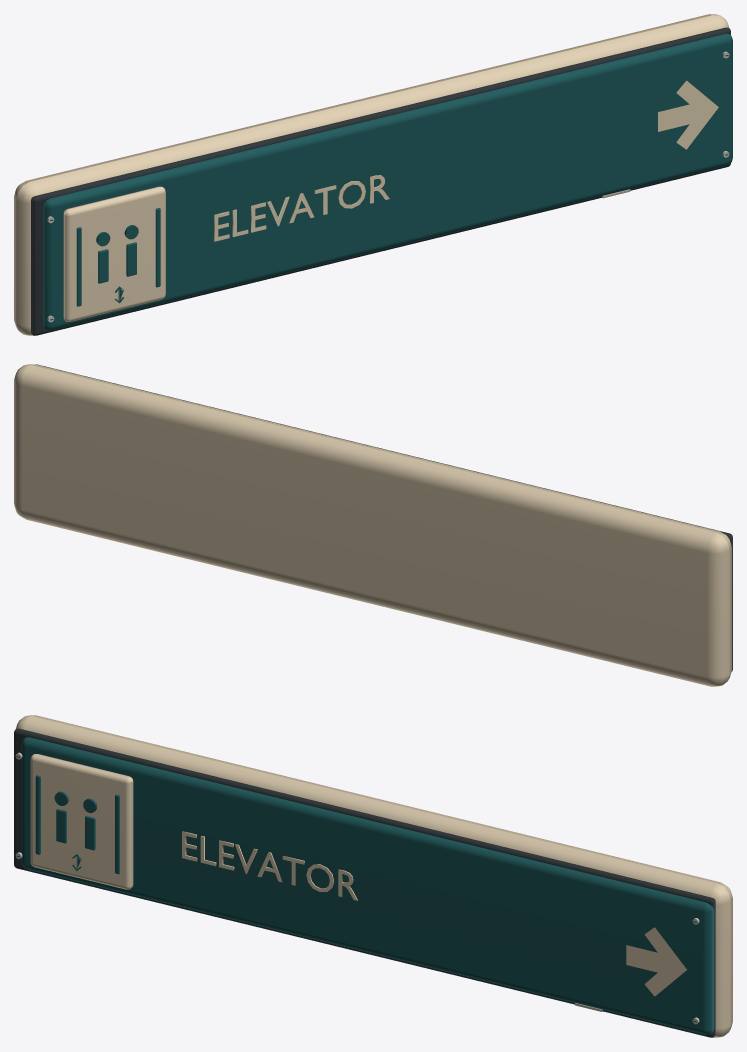
The model's file is sign_elevator.glb.
3 renders of one model, top to bottom at view 1: azimuth 30°, elevation 25°; view 2: azimuth 150°, elevation 25°; view 3: azimuth 330°, elevation 25°, orthographic.
Visible parts, largest first — view 1: sign_elevator__Enamel_Teal, sign_elevator__Shell_Warm_Cream, sign_elevator__Rubber_Graphite; view 2: sign_elevator__Shell_Warm_Cream, sign_elevator__Rubber_Graphite; view 3: sign_elevator__Enamel_Teal, sign_elevator__Shell_Warm_Cream, sign_elevator__Rubber_Graphite.
Boxes of the visible parts, x1=… form: sign_elevator__Enamel_Teal: x1=43, y1=33, x2=732, y2=330; sign_elevator__Shell_Warm_Cream: x1=14, y1=14, x2=729, y2=335; sign_elevator__Rubber_Graphite: x1=31, y1=27, x2=730, y2=335; sign_elevator__Shell_Warm_Cream: x1=14, y1=364, x2=731, y2=686; sign_elevator__Rubber_Graphite: x1=36, y1=364, x2=732, y2=671; sign_elevator__Enamel_Teal: x1=21, y1=737, x2=714, y2=1034; sign_elevator__Shell_Warm_Cream: x1=16, y1=715, x2=732, y2=1037; sign_elevator__Rubber_Graphite: x1=14, y1=728, x2=715, y2=1037.
Bounding box in the file's own units: 0.9 × 0.185 × 0.0666.
